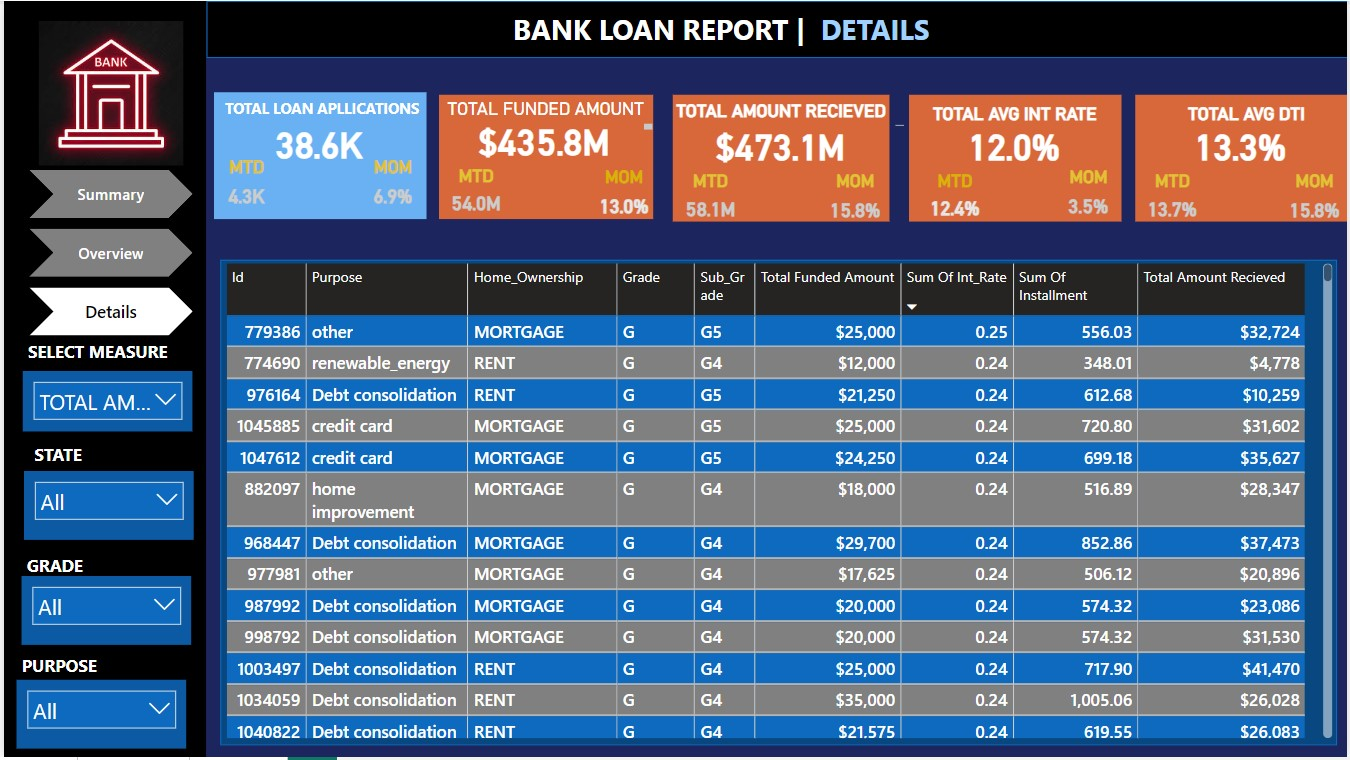

What the dashboard file says about the page in this screenshot:
{"tool":"powerbi","page":{"name":"Details","canvas":[1280,720],"ordinal":2},"visuals":[{"type":"shape","box":[0,0,192.4,720.1],"z":0},{"type":"textbox","box":[199.5,87,202.6,120.6],"z":0,"group":"g2"},{"type":"textbox","box":[637.4,89.1,206.2,120.4],"z":0,"group":"g3"},{"type":"textbox","box":[862.1,89.1,202.6,120.6],"z":0,"group":"g8"},{"type":"textbox","box":[1077.4,89.1,202.6,120.6],"z":0,"group":"g5"},{"type":"textbox","box":[414.2,89.3,204.3,118.4],"z":0,"group":"g4"},{"type":"shape","box":[192.4,0,1087.9,54.3],"z":1000},{"type":"card","fields":{"Values":["financial_loan.Total funded amount"]},"box":[440.2,98.9,147.8,66.3],"z":1000,"group":"g4"},{"type":"card","fields":{"Values":["financial_loan.Total Loan Applications"]},"box":[230.9,102.6,138.3,65.1],"z":1000,"group":"g2"},{"type":"card","fields":{"Values":["financial_loan.TOTAL AMOUNT RECIEVED"]},"box":[669.3,104.6,140.7,65],"z":1000,"group":"g3"},{"type":"card","fields":{"Values":["financial_loan.AVG INTEREST RATE"]},"box":[893.5,104.7,138.3,65.1],"z":1000,"group":"g8"},{"type":"card","fields":{"Values":["financial_loan.TOTAL AVG DTI"]},"box":[1108.8,104.7,138.3,65.1],"z":1000,"group":"g5"},{"type":"textbox","box":[480.3,4.1,488.5,46.7],"z":2000},{"type":"textbox","box":[196.1,88.6,212.7,31.6],"z":2000,"group":"g2"},{"type":"textbox","title":"TOTAL FUNDED  AMOUNT","box":[409.2,93.2,212.7,34.5],"z":2000,"group":"g4"},{"type":"textbox","title":"TOTAL  AMOUNT  RECIEVED","box":[617.9,93.7,244.3,30.1],"z":2000,"group":"g3"},{"type":"textbox","title":"TOTAL AVG INT RATE","box":[865,97.1,196.9,27.3],"z":2000,"group":"g8"},{"type":"textbox","title":" TOTAL AVG DTI","box":[1106.8,97.6,152.3,21.6],"z":2000,"group":"g5"},{"type":"group","id":"g1","title":"Group 1","box":[196.1,87,212.7,120.6],"z":3000},{"type":"card","title":"MTD","fields":{"Values":["financial_loan.MTD"]},"box":[205.2,147.8,49.9,59.4],"z":3000,"group":"g2"},{"type":"card","title":"MTD","fields":{"Values":["financial_loan.MTD FUNDED AMOUNT"]},"box":[412.2,155.6,73,54.9],"z":3000,"group":"g4"},{"type":"card","title":"MTD","fields":{"Values":["financial_loan.MTD TOTAL AMOUNT RECIEVED"]},"box":[641.8,160.8,62.4,56.9],"z":3000,"group":"g3"},{"type":"card","title":"MTD","fields":{"Values":["financial_loan.MTD AVG DTI"]},"box":[1081.8,161,61.3,57],"z":3000,"group":"g5"},{"type":"group","id":"g2","title":"Group 2","box":[196.1,87,212.7,120.6],"z":3001,"group":"g1"},{"type":"group","id":"g3","title":"Group 2","box":[617.9,89.1,244.3,130.8],"z":3001,"group":"g7"},{"type":"group","id":"g4","title":"Group 2","box":[409.2,89.3,212.7,121.2],"z":3001,"group":"g6"},{"type":"group","id":"g5","title":"Group 2","box":[1077.4,89.1,202.6,131],"z":4000},{"type":"card","title":"MOM","fields":{"Values":["financial_loan.MOM LOAN APPLICATIONS"]},"box":[344.9,147.8,49.9,59.4],"z":4000,"group":"g2"},{"type":"card","title":"MOM","fields":{"Values":["financial_loan.MOM AVG INT RATE"]},"box":[1001.6,156.4,63.2,58.9],"z":4000,"group":"g8"},{"type":"card","title":"MOM","fields":{"Values":["financial_loan.MOM TOTAL AMOUNT RECIEVED"]},"box":[778.8,160.3,64.2,59.6],"z":4000,"group":"g3"},{"type":"card","title":"MOM","fields":{"Values":["financial_loan.MOM TOTAL AMOUNT RECIEVED"]},"box":[1216.3,160.4,63.1,59.7],"z":4000,"group":"g5"},{"type":"group","id":"g6","title":"Group 1","box":[409.2,89.3,212.7,121.2],"z":5000},{"type":"group","id":"g7","title":"Group 1","box":[617.9,89.1,244.3,130.8],"z":6000},{"type":"card","title":"MOM","fields":{"Values":["financial_loan.MOM TOTAL FUNDED AMOUNT"]},"box":[555.9,157,69.1,59],"z":7000},{"type":"group","id":"g8","title":"Group 3","box":[862.1,89.1,202.6,126.4],"z":8000},{"type":"card","title":"MTD","fields":{"Values":["financial_loan.MTD INTEREST RATE"]},"box":[869.3,160.9,73.3,54.6],"z":8000,"group":"g8"},{"type":"slicer","fields":{"Values":["financial_loan.address_state"]},"box":[19,448,161.8,65.6],"z":9000},{"type":"slicer","fields":{"Values":["financial_loan.grade"]},"box":[16.5,547.1,161.8,65.6],"z":10000},{"type":"slicer","fields":{"Values":["financial_loan.purpose"]},"box":[11.5,646.2,161.8,65.6],"z":11000},{"type":"textbox","box":[23.6,416,109.9,32],"z":12000},{"type":"textbox","box":[16.6,521.5,110.4,48.9],"z":13000},{"type":"textbox","box":[11.5,617.2,177,58],"z":14000},{"type":"shape","box":[205.5,246,1063.6,462.6],"z":15000},{"type":"slicer","fields":{"Values":["select measure.select measure"]},"box":[17.7,352.9,161.8,58],"z":16000},{"type":"textbox","box":[17.7,317.8,228.9,35.1],"z":17000},{"type":"tableEx","fields":{"Values":["financial_loan.id","financial_loan.purpose","financial_loan.home_ownership","financial_loan.grade","financial_loan.sub_grade","financial_loan.Total funded amount","Sum(financial_loan.int_rate)","Sum(financial_loan.installment)","financial_loan.TOTAL AMOUNT RECIEVED"]},"box":[205.7,245.7,1064.2,461.8],"z":18000},{"type":"image","box":[6.3,13.7,192.4,147.4],"z":19000},{"type":"pageNavigator","box":[23.8,160.7,156.5,159.3],"z":20000}]}

Visuals, with their boxes in screenshot pixels (x1, y1, x2, y2), scaled from the page's 1280x720 canvas onto the 1350x760 screenshot:
shape: pyautogui.locateOnScreen(0, 0, 203, 759)
textbox: pyautogui.locateOnScreen(210, 92, 424, 219)
textbox: pyautogui.locateOnScreen(672, 94, 890, 221)
textbox: pyautogui.locateOnScreen(909, 94, 1123, 221)
textbox: pyautogui.locateOnScreen(1136, 94, 1349, 221)
textbox: pyautogui.locateOnScreen(437, 94, 652, 219)
shape: pyautogui.locateOnScreen(203, 0, 1349, 57)
card - financial_loan.Total funded amount: pyautogui.locateOnScreen(464, 104, 620, 174)
card - financial_loan.Total Loan Applications: pyautogui.locateOnScreen(244, 108, 389, 177)
card - financial_loan.TOTAL AMOUNT RECIEVED: pyautogui.locateOnScreen(706, 110, 854, 179)
card - financial_loan.AVG INTEREST RATE: pyautogui.locateOnScreen(942, 111, 1088, 179)
card - financial_loan.TOTAL AVG DTI: pyautogui.locateOnScreen(1169, 111, 1315, 179)
textbox: pyautogui.locateOnScreen(507, 4, 1022, 54)
textbox: pyautogui.locateOnScreen(207, 94, 431, 127)
"TOTAL FUNDED  AMOUNT" textbox: pyautogui.locateOnScreen(432, 98, 656, 135)
"TOTAL  AMOUNT  RECIEVED" textbox: pyautogui.locateOnScreen(652, 99, 909, 131)
"TOTAL AVG INT RATE" textbox: pyautogui.locateOnScreen(912, 102, 1120, 131)
" TOTAL AVG DTI" textbox: pyautogui.locateOnScreen(1167, 103, 1328, 126)
"Group 1" group: pyautogui.locateOnScreen(207, 92, 431, 219)
"MTD" card: pyautogui.locateOnScreen(216, 156, 269, 219)
"MTD" card: pyautogui.locateOnScreen(435, 164, 512, 222)
"MTD" card: pyautogui.locateOnScreen(677, 170, 743, 230)
"MTD" card: pyautogui.locateOnScreen(1141, 170, 1206, 230)
"Group 2" group: pyautogui.locateOnScreen(207, 92, 431, 219)
"Group 2" group: pyautogui.locateOnScreen(652, 94, 909, 232)
"Group 2" group: pyautogui.locateOnScreen(432, 94, 656, 222)
"Group 2" group: pyautogui.locateOnScreen(1136, 94, 1349, 232)
"MOM" card: pyautogui.locateOnScreen(364, 156, 416, 219)
"MOM" card: pyautogui.locateOnScreen(1056, 165, 1123, 227)
"MOM" card: pyautogui.locateOnScreen(821, 169, 889, 232)
"MOM" card: pyautogui.locateOnScreen(1283, 169, 1349, 232)
"Group 1" group: pyautogui.locateOnScreen(432, 94, 656, 222)
"Group 1" group: pyautogui.locateOnScreen(652, 94, 909, 232)
"MOM" card: pyautogui.locateOnScreen(586, 166, 659, 228)
"Group 3" group: pyautogui.locateOnScreen(909, 94, 1123, 227)
"MTD" card: pyautogui.locateOnScreen(917, 170, 994, 227)
slicer - financial_loan.address_state: pyautogui.locateOnScreen(20, 473, 191, 542)
slicer - financial_loan.grade: pyautogui.locateOnScreen(17, 577, 188, 647)
slicer - financial_loan.purpose: pyautogui.locateOnScreen(12, 682, 183, 751)
textbox: pyautogui.locateOnScreen(25, 439, 141, 473)
textbox: pyautogui.locateOnScreen(18, 550, 134, 602)
textbox: pyautogui.locateOnScreen(12, 651, 199, 713)
shape: pyautogui.locateOnScreen(217, 260, 1339, 748)
slicer - select measure.select measure: pyautogui.locateOnScreen(19, 373, 189, 434)
textbox: pyautogui.locateOnScreen(19, 335, 260, 373)
tableEx - financial_loan.id x financial_loan.purpose: pyautogui.locateOnScreen(217, 259, 1339, 747)
image: pyautogui.locateOnScreen(7, 14, 210, 170)
pageNavigator: pyautogui.locateOnScreen(25, 170, 190, 338)
